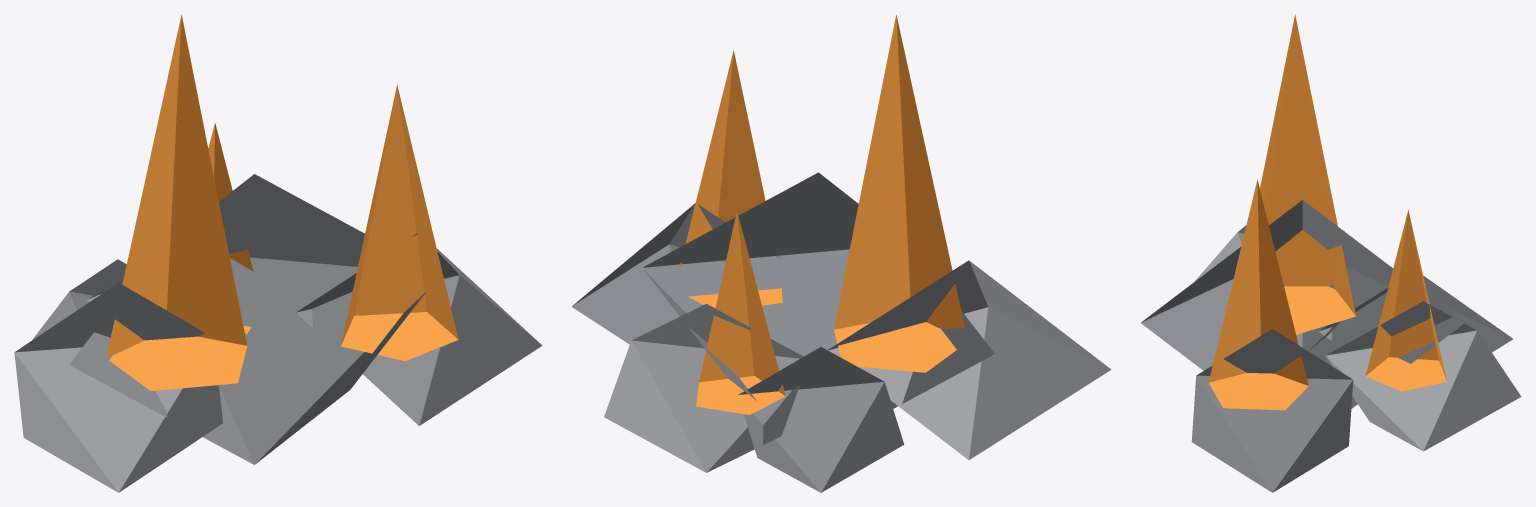
File: ore_node.gltf
3 renders of one model, left to right at view 1: azimuth 30°, elevation 25°; view 2: azimuth 150°, elevation 25°; view 3: azimuth 270°, elevation 25°, orthographic. The views are drawn at different scales.
Parts seen in each view (by area): view 1: Rock0, Ore0, Rock1, Ore1, Rock2, Rock4, Ore2; view 2: Ore0, Rock0, Rock1, Rock3, Rock4, Ore2, Ore1, Rock2; view 3: Rock2, Ore0, Rock0, Rock3, Ore1, Ore2, Rock4, Rock1.
Boxes of the visible parts, left/top/right/bottom form: Rock0: left=69, top=174, right=425, bottom=464; Ore0: left=107, top=15, right=247, bottom=390; Rock1: left=14, top=282, right=222, bottom=492; Ore1: left=341, top=85, right=458, bottom=361; Rock2: left=296, top=233, right=542, bottom=425; Rock4: left=32, top=259, right=126, bottom=340; Ore2: left=208, top=123, right=253, bottom=333; Ore0: left=834, top=15, right=964, bottom=372; Rock0: left=642, top=172, right=994, bottom=408; Rock1: left=828, top=260, right=1111, bottom=459; Rock3: left=604, top=304, right=803, bottom=472; Rock4: left=738, top=347, right=904, bottom=492; Ore2: left=696, top=211, right=785, bottom=414; Ore1: left=679, top=50, right=782, bottom=307; Rock2: left=571, top=203, right=780, bottom=344; Rock2: left=1191, top=329, right=1353, bottom=492; Ore0: left=1260, top=14, right=1355, bottom=334; Rock0: left=1141, top=200, right=1464, bottom=408; Rock3: left=1326, top=301, right=1521, bottom=451; Ore1: left=1208, top=179, right=1308, bottom=410; Ore2: left=1365, top=210, right=1446, bottom=391; Rock4: left=1318, top=275, right=1512, bottom=352; Rock1: left=1194, top=225, right=1354, bottom=350.
Size of the model in its own units: 1.3 by 1.17 by 1.01.
